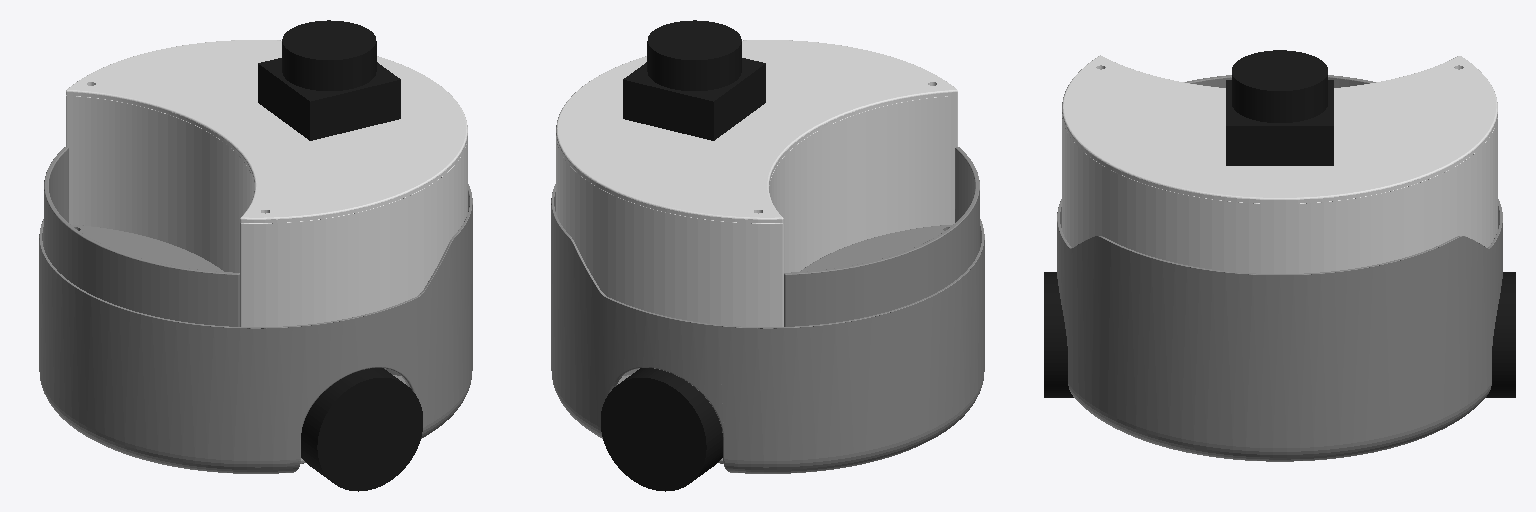
robot.urdf — aircore:
<?xml version="1.0"?>
<!-- Auto-generated from aircore_end CAD STL exports (mm -> m). Frame: X forward (assumed), Y left, Z up. -->
<!-- Total mass 3.0 kg (user-specified). RPLIDAR C1 = 110 g (datasheet); remaining mass distributed in proportion to part volume. -->
<robot name="aircore">

  <material name="grey"><color rgba="0.6 0.6 0.6 1"/></material>
  <material name="dark"><color rgba="0.15 0.15 0.15 1"/></material>
  <material name="white"><color rgba="0.9 0.9 0.9 1"/></material>
  <material name="blue"><color rgba="0.2 0.4 0.8 1"/></material>
  <material name="steel"><color rgba="0.75 0.75 0.8 1"/></material>

  <!-- base_footprint: ground plane under base_link (no inertia, ok for KDL root) -->
  <link name="base_footprint">
  </link>

  <joint name="base_footprint_joint" type="fixed">
    <parent link="base_footprint"/>
    <child link="base_link"/>
    <origin xyz="0 0 0.0095" rpy="0 0 0"/>
  </joint>

  <link name="base_link">
    <visual>
      <origin xyz="0 0 0" rpy="0 0 0"/>
      <geometry>
        <mesh filename="package://aircore_description/meshes/base_link.stl" scale="0.001 0.001 0.001"/>
      </geometry>
      <material name="grey"/>
    </visual>
    <collision>
      <origin xyz="0 0 0.0553" rpy="0 0 0"/>
      <geometry>
        <cylinder radius="0.115" length="0.1106"/>
      </geometry>
    </collision>
    <inertial>
      <origin xyz="0.0019 0.00019 0.03077" rpy="0 0 0"/>
      <mass value="0.9001"/>
      <inertia ixx="4.6647e-03" ixy="-6.7879e-06" ixz="-1.1479e-04" iyy="5.9742e-03" iyz="3.6188e-06" izz="9.2642e-03"/>
    </inertial>
  </link>

  <link name="floor2">
    <visual>
      <origin xyz="0 0 0" rpy="0 0 0"/>
      <geometry>
        <mesh filename="package://aircore_description/meshes/floor2.stl" scale="0.001 0.001 0.001"/>
      </geometry>
      <material name="white"/>
    </visual>
    <collision>
      <origin xyz="0.02469 0 0.11" rpy="0 0 0"/>
      <geometry>
        <box size="0.1756 0.22499 0.08"/>
      </geometry>
    </collision>
    <inertial>
      <origin xyz="0.01671 -0.00047 0.09736" rpy="0 0 0"/>
      <mass value="0.7185"/>
      <inertia ixx="3.9721e-03" ixy="3.5910e-06" ixz="1.3072e-04" iyy="2.4425e-03" iyz="2.7311e-06" izz="5.4574e-03"/>
    </inertial>
  </link>

  <joint name="floor2_joint" type="fixed">
    <parent link="base_link"/>
    <child link="floor2"/>
    <origin xyz="0 0 0" rpy="0 0 0"/>
  </joint>

  <link name="pot_put">
    <visual>
      <origin xyz="0 0 0" rpy="0 0 0"/>
      <geometry>
        <mesh filename="package://aircore_description/meshes/pot_put.stl" scale="0.001 0.001 0.001"/>
      </geometry>
      <material name="grey"/>
    </visual>
    <collision>
      <origin xyz="-0.06625 0 0.095" rpy="0 0 0"/>
      <geometry>
        <box size="0.0925 0.18484 0.05"/>
      </geometry>
    </collision>
    <inertial>
      <origin xyz="-0.07409 0 0.07969" rpy="0 0 0"/>
      <mass value="0.2147"/>
      <inertia ixx="5.1371e-04" ixy="-5.8251e-09" ixz="3.1676e-05" iyy="1.6520e-04" iyz="-1.2275e-08" izz="6.0258e-04"/>
    </inertial>
  </link>

  <joint name="pot_put_joint" type="fixed">
    <parent link="base_link"/>
    <child link="pot_put"/>
    <origin xyz="0 0 0" rpy="0 0 0"/>
  </joint>

  <link name="lidar_floor">
    <visual>
      <origin xyz="0 0 0" rpy="0 0 0"/>
      <geometry>
        <mesh filename="package://aircore_description/meshes/lidar_floor.stl" scale="0.001 0.001 0.001"/>
      </geometry>
      <material name="white"/>
    </visual>
    <collision>
      <origin xyz="0.02465 0 0.1515" rpy="0 0 0"/>
      <geometry>
        <box size="0.17562 0.22493 0.003"/>
      </geometry>
    </collision>
    <inertial>
      <origin xyz="0.02873 -3e-05 0.1515" rpy="0 0 0"/>
      <mass value="0.2109"/>
      <inertia ixx="7.8720e-04" ixy="-3.9800e-07" ixz="-4.6443e-09" iyy="3.3972e-04" iyz="2.4648e-12" izz="1.1266e-03"/>
    </inertial>
  </link>

  <joint name="lidar_floor_joint" type="fixed">
    <parent link="base_link"/>
    <child link="lidar_floor"/>
    <origin xyz="0 0 0" rpy="0 0 0"/>
  </joint>

  <link name="ball_support_front">
    <visual>
      <origin xyz="0 0 0" rpy="0 0 0"/>
      <geometry>
        <mesh filename="package://aircore_description/meshes/ball_support_front.stl" scale="0.001 0.001 0.001"/>
      </geometry>
      <material name="dark"/>
    </visual>
    <collision>
      <origin xyz="0.08 0 0.012" rpy="0 0 0"/>
      <geometry>
        <box size="0.0494 0.06937 0.024"/>
      </geometry>
    </collision>
    <inertial>
      <origin xyz="0.08 0 0.0129" rpy="0 0 0"/>
      <mass value="0.0840"/>
      <inertia ixx="1.4937e-05" ixy="9.8919e-22" ixz="1.0225e-13" iyy="1.3462e-05" iyz="3.1775e-22" izz="1.9567e-05"/>
    </inertial>
  </link>

  <joint name="ball_support_front_joint" type="fixed">
    <parent link="base_link"/>
    <child link="ball_support_front"/>
    <origin xyz="0 0 0" rpy="0 0 0"/>
  </joint>

  <link name="ball_support_rear">
    <visual>
      <origin xyz="0 0 0" rpy="0 0 0"/>
      <geometry>
        <mesh filename="package://aircore_description/meshes/ball_support_rear.stl" scale="0.001 0.001 0.001"/>
      </geometry>
      <material name="dark"/>
    </visual>
    <collision>
      <origin xyz="-0.08 0 0.012" rpy="0 0 0"/>
      <geometry>
        <box size="0.0494 0.06937 0.024"/>
      </geometry>
    </collision>
    <inertial>
      <origin xyz="-0.08 0 0.0129" rpy="0 0 0"/>
      <mass value="0.0840"/>
      <inertia ixx="1.4937e-05" ixy="-1.1870e-22" ixz="-8.0258e-14" iyy="1.3462e-05" iyz="-6.3912e-22" izz="1.9567e-05"/>
    </inertial>
  </link>

  <joint name="ball_support_rear_joint" type="fixed">
    <parent link="base_link"/>
    <child link="ball_support_rear"/>
    <origin xyz="0 0 0" rpy="0 0 0"/>
  </joint>

  <!-- RPLIDAR C1 (55.6 x 55.6 x 41.3 mm, 110 g). lidar_support = fixed housing -->
  <link name="lidar_support">
    <visual>
      <origin xyz="0 0 0" rpy="0 0 0"/>
      <geometry>
        <mesh filename="package://aircore_description/meshes/lidar_support.stl" scale="0.001 0.001 0.001"/>
      </geometry>
      <material name="dark"/>
    </visual>
    <collision>
      <origin xyz="0.045 0 0.16455" rpy="0 0 0"/>
      <geometry>
        <box size="0.0556 0.0556 0.0231"/>
      </geometry>
    </collision>
    <inertial>
      <origin xyz="0.045 0 0.16455" rpy="0 0 0"/>
      <mass value="0.0733"/>
      <inertia ixx="2.2151e-05" ixy="-0.0000e+00" ixz="-6.1205e-20" iyy="2.2151e-05" iyz="-0.0000e+00" izz="3.7780e-05"/>
    </inertial>
  </link>

  <joint name="lidar_support_joint" type="fixed">
    <parent link="lidar_floor"/>
    <child link="lidar_support"/>
    <origin xyz="0 0 0" rpy="0 0 0"/>
  </joint>

  <!-- spinning scanner head (real C1 spins clockwise seen from top; visual only) -->
  <link name="lidar_head">
    <visual>
      <origin xyz="-0.045 0 -0.1761" rpy="0 0 0"/>
      <geometry>
        <mesh filename="package://aircore_description/meshes/lidar_head.stl" scale="0.001 0.001 0.001"/>
      </geometry>
      <material name="dark"/>
    </visual>
    <collision>
      <origin xyz="0 0 0.0091" rpy="0 0 0"/>
      <geometry>
        <cylinder radius="0.0250" length="0.0182"/>
      </geometry>
    </collision>
    <inertial>
      <origin xyz="0 0 0.0091" rpy="0 0 0"/>
      <mass value="0.0367"/>
      <inertia ixx="6.7389e-06" ixy="1.6905e-22" ixz="-3.0602e-19" iyy="6.7389e-06" iyz="6.7833e-23" izz="1.1453e-05"/>
    </inertial>
  </link>

  <joint name="lidar_head_joint" type="continuous">
    <parent link="lidar_support"/>
    <child link="lidar_head"/>
    <origin xyz="0.045 0 0.1761" rpy="0 0 0"/>
    <axis xyz="0 0 1"/>
    <dynamics damping="0.0" friction="0.0"/>
  </joint>

  <!-- laser: fixed scan frame (frame_id of /scan). Height = head mid-height (ASSUMED, verify optical plane) -->
  <!-- yaw = pi: on the real robot (sllidar_ros2, inverted=false) the scan came out front/back swapped
       with yaw 0 (checked in RViz 2026-11-23), so the C1 is mounted rotated 180 deg. -->
  <link name="laser">
  </link>

  <joint name="laser_joint" type="fixed">
    <parent link="lidar_support"/>
    <child link="laser"/>
    <origin xyz="0.045 0 0.1852" rpy="0 0 3.14159265"/>
  </joint>

  <!-- left wheel: tire R=32.5 mm, width=26.0 mm (mesh also contains motor body) -->
  <link name="left_wheel_link">
    <visual>
      <origin xyz="1e-05 -0.1085 -0.023" rpy="0 0 0"/>
      <geometry>
        <mesh filename="package://aircore_description/meshes/wheel_left.stl" scale="0.001 0.001 0.001"/>
      </geometry>
      <material name="dark"/>
    </visual>
    <collision>
      <origin xyz="0 0 0" rpy="1.5708 0 0"/>
      <geometry>
        <cylinder radius="0.0325" length="0.0260"/>
      </geometry>
    </collision>
    <inertial>
      <origin xyz="1e-05 -0.01534 0" rpy="0 0 0"/>
      <mass value="0.3181"/>
      <inertia ixx="2.6783e-04" ixy="8.6859e-14" ixz="-3.2135e-13" iyy="1.2687e-04" iyz="3.6708e-13" izz="2.6783e-04"/>
    </inertial>
  </link>

  <joint name="left_wheel_joint" type="continuous">
    <parent link="base_link"/>
    <child link="left_wheel_link"/>
    <origin xyz="-1e-05 0.1085 0.023" rpy="0 0 0"/>
    <axis xyz="0 1 0"/>
    <dynamics damping="0.0" friction="0.0"/>
  </joint>

  <!-- right wheel: tire R=32.5 mm, width=26.0 mm (mesh also contains motor body) -->
  <link name="right_wheel_link">
    <visual>
      <origin xyz="1e-05 0.1085 -0.023" rpy="0 0 0"/>
      <geometry>
        <mesh filename="package://aircore_description/meshes/wheel_right.stl" scale="0.001 0.001 0.001"/>
      </geometry>
      <material name="dark"/>
    </visual>
    <collision>
      <origin xyz="0 0 0" rpy="1.5708 0 0"/>
      <geometry>
        <cylinder radius="0.0325" length="0.0260"/>
      </geometry>
    </collision>
    <inertial>
      <origin xyz="1e-05 0.01534 0" rpy="0 0 0"/>
      <mass value="0.3181"/>
      <inertia ixx="2.6783e-04" ixy="-8.6859e-14" ixz="-3.2135e-13" iyy="1.2687e-04" iyz="-3.6708e-13" izz="2.6783e-04"/>
    </inertial>
  </link>

  <joint name="right_wheel_joint" type="continuous">
    <parent link="base_link"/>
    <child link="right_wheel_link"/>
    <origin xyz="-1e-05 -0.1085 0.023" rpy="0 0 0"/>
    <axis xyz="0 1 0"/>
    <dynamics damping="0.0" friction="0.0"/>
  </joint>

  <!-- front ball caster (R=12.5 mm): fixed sphere, mu=0 in Gazebo -->
  <link name="caster_front_ball_link">
    <visual>
      <origin xyz="-0.08 0 -0.003" rpy="0 0 0"/>
      <geometry>
        <mesh filename="package://aircore_description/meshes/ball_front.stl" scale="0.001 0.001 0.001"/>
      </geometry>
      <material name="steel"/>
    </visual>
    <collision>
      <origin xyz="0 0 0" rpy="0 0 0"/>
      <geometry>
        <sphere radius="0.0125"/>
      </geometry>
    </collision>
    <inertial>
      <origin xyz="0 0 0" rpy="0 0 0"/>
      <mass value="0.0208"/>
      <inertia ixx="1.2997e-06" ixy="-4.0928e-22" ixz="5.9351e-21" iyy="1.2997e-06" iyz="9.2676e-18" izz="1.2992e-06"/>
    </inertial>
  </link>

  <joint name="caster_front_ball_joint" type="fixed">
    <parent link="ball_support_front"/>
    <child link="caster_front_ball_link"/>
    <origin xyz="0.08 0 0.003" rpy="0 0 0"/>
  </joint>

  <gazebo reference="caster_front_ball_link">
    <mu1>0.0</mu1>
    <mu2>0.0</mu2>
  </gazebo>

  <!-- rear ball caster (R=12.5 mm): fixed sphere, mu=0 in Gazebo -->
  <link name="caster_rear_ball_link">
    <visual>
      <origin xyz="0.08 0 -0.003" rpy="0 0 0"/>
      <geometry>
        <mesh filename="package://aircore_description/meshes/ball_rear.stl" scale="0.001 0.001 0.001"/>
      </geometry>
      <material name="steel"/>
    </visual>
    <collision>
      <origin xyz="0 0 0" rpy="0 0 0"/>
      <geometry>
        <sphere radius="0.0125"/>
      </geometry>
    </collision>
    <inertial>
      <origin xyz="0 0 0" rpy="0 0 0"/>
      <mass value="0.0208"/>
      <inertia ixx="1.2997e-06" ixy="3.3014e-22" ixz="6.5286e-21" iyy="1.2997e-06" iyz="9.2676e-18" izz="1.2992e-06"/>
    </inertial>
  </link>

  <joint name="caster_rear_ball_joint" type="fixed">
    <parent link="ball_support_rear"/>
    <child link="caster_rear_ball_link"/>
    <origin xyz="-0.08 0 0.003" rpy="0 0 0"/>
  </joint>

  <gazebo reference="caster_rear_ball_link">
    <mu1>0.0</mu1>
    <mu2>0.0</mu2>
  </gazebo>

  <!-- ===== RPLIDAR C1 simulated sensor (values from Slamtec datasheet) =====
       range 0.05-12 m (70% reflectivity), 10 Hz typical, 5 kHz sample rate, 0.72 deg resolution,
       range resolution 15 mm, accuracy +/-30 mm (modelled as gaussian stddev 0.01 m = ~3 sigma, ASSUMPTION).
       Angle 0 = laser +X = robot REAR (laser_joint yaw = pi, matches the real C1 mounting),
       counter-clockwise positive (REP-103).
       World file must load gz-sim-sensors-system (render_engine ogre2). -->
  <gazebo reference="laser">
    <sensor name="rplidar_c1" type="gpu_lidar">
      <always_on>true</always_on>
      <visualize>true</visualize>
      <update_rate>10</update_rate>
      <topic>scan</topic>
      <frame_id>laser</frame_id>
      <gz_frame_id>laser</gz_frame_id>
      <lidar>
        <scan>
          <horizontal>
            <samples>500</samples>
            <resolution>1</resolution>
            <min_angle>-3.141593</min_angle>
            <max_angle>3.129026</max_angle>
          </horizontal>
          <vertical>
            <samples>1</samples>
            <resolution>1</resolution>
            <min_angle>0</min_angle>
            <max_angle>0</max_angle>
          </vertical>
        </scan>
        <range>
          <min>0.05</min>
          <max>12.0</max>
          <resolution>0.015</resolution>
        </range>
        <noise>
          <type>gaussian</type>
          <mean>0.0</mean>
          <stddev>0.01</stddev>
        </noise>
      </lidar>
    </sensor>
  </gazebo>

</robot>

--- Facts derived from the render (not from the file) ---
The picture shows the robot from 3 angles, left to right: view 1: azimuth 30°, elevation 25°; view 2: azimuth 150°, elevation 25°; view 3: azimuth 270°, elevation 25°; orthographic projection.
Robot: aircore — 14 links, 13 joints (3 continuous, 10 fixed); root link base_footprint; default pose: every joint at zero.
Links seen in each view (by area): view 1: base_link, floor2, lidar_floor, pot_put, right_wheel_link, lidar_support, lidar_head; view 2: base_link, floor2, lidar_floor, pot_put, left_wheel_link, lidar_support, lidar_head; view 3: base_link, lidar_floor, floor2, lidar_head, lidar_support, left_wheel_link, right_wheel_link, pot_put.
Boxes of the visible links, <box> form: base_link: <box>39,184,472,473</box>; floor2: <box>66,95,467,326</box>; lidar_floor: <box>66,40,467,222</box>; pot_put: <box>44,147,239,326</box>; right_wheel_link: <box>301,368,422,491</box>; lidar_support: <box>258,58,400,140</box>; lidar_head: <box>282,20,376,90</box>; base_link: <box>551,184,984,473</box>; floor2: <box>556,96,957,326</box>; lidar_floor: <box>556,40,957,222</box>; pot_put: <box>784,147,979,326</box>; left_wheel_link: <box>601,368,722,491</box>; lidar_support: <box>623,58,765,140</box>; lidar_head: <box>647,20,741,90</box>; base_link: <box>1057,199,1502,461</box>; lidar_floor: <box>1062,55,1497,203</box>; floor2: <box>1062,118,1497,273</box>; lidar_head: <box>1232,50,1327,122</box>; lidar_support: <box>1226,80,1333,165</box>; left_wheel_link: <box>1486,272,1515,397</box>; right_wheel_link: <box>1044,272,1073,397</box>; pot_put: <box>1185,75,1375,87</box>.
Size in the robot's own frame: 0.23 by 0.243 by 0.2038 metres.
12 mesh visuals loaded from 12 distinct referenced files (12 binary STL).
